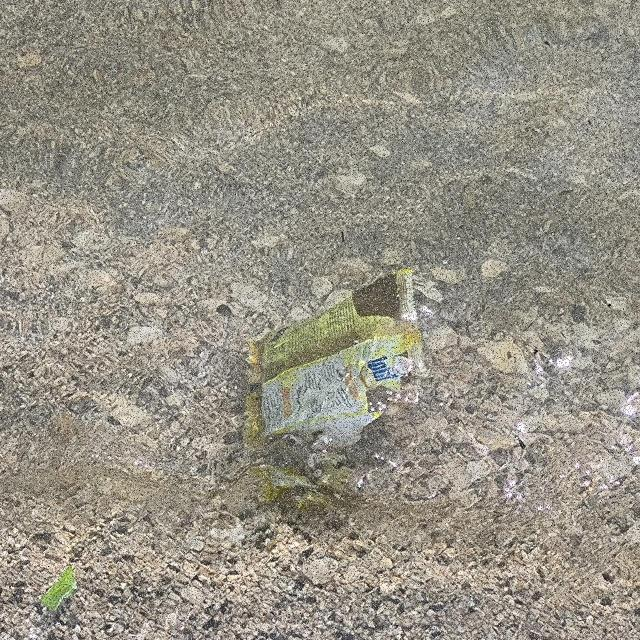plastic_waste: (245, 269, 429, 447)
